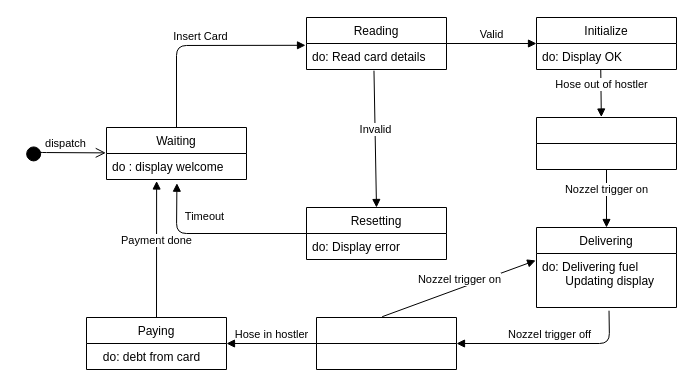
Some shapes in this 694 by 387 pixel diagram are drawn without their labels. The shapes that lost their labels are listed below. From the top down, each one's centre as x and y in pixels, then its label:
At (606,143): "Ready".
At (386,343): "Stopped".
